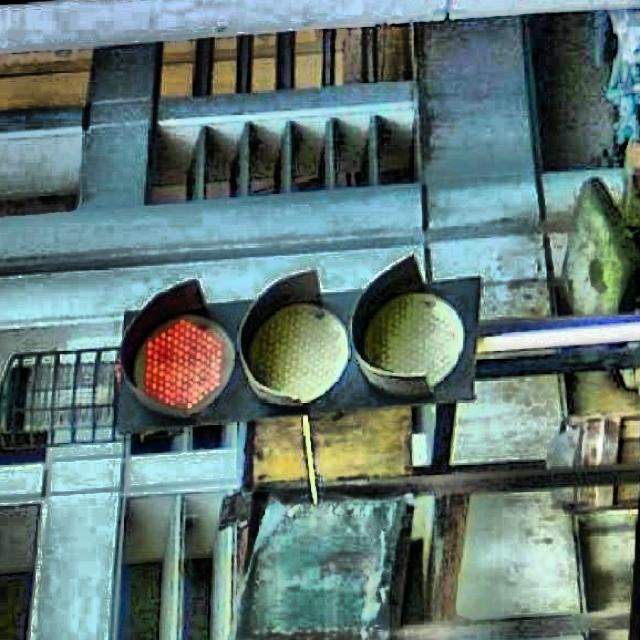red: (114, 270, 480, 436)
